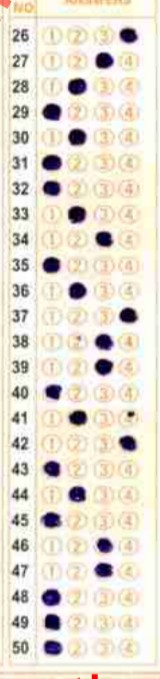filled circles: (41, 512, 62, 528), (42, 589, 61, 606), (95, 333, 113, 350), (68, 128, 86, 145), (43, 103, 61, 120), (69, 282, 86, 299), (68, 206, 85, 223), (95, 359, 113, 375), (68, 78, 86, 94), (42, 155, 61, 170), (96, 52, 113, 68), (43, 256, 60, 272), (43, 460, 60, 476), (119, 435, 136, 451), (43, 180, 60, 196), (120, 27, 137, 43), (95, 231, 113, 246), (69, 410, 86, 425), (120, 307, 137, 322), (44, 640, 62, 654), (97, 537, 113, 552), (69, 486, 85, 501), (45, 384, 61, 399), (95, 563, 112, 577), (45, 614, 60, 629), (127, 411, 134, 420)
